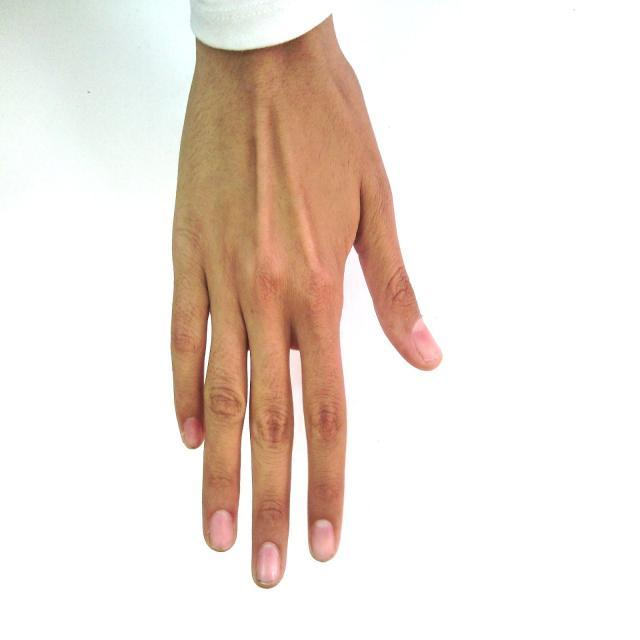Fingernail: (411, 319, 443, 361), (256, 542, 281, 585), (208, 509, 234, 550), (311, 519, 336, 561), (183, 418, 203, 448)
